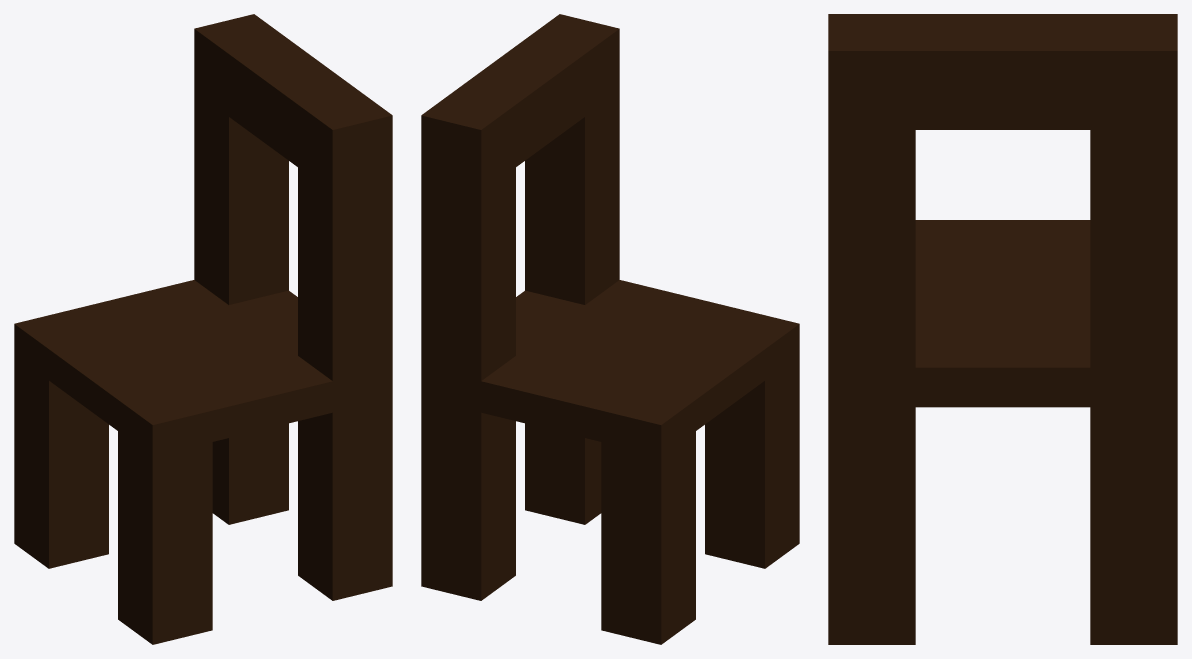
Rendered from chair.glb.
3 views of the same model, side by side, from view 1: azimuth 30°, elevation 25°; view 2: azimuth 150°, elevation 25°; view 3: azimuth 270°, elevation 25° (orthographic). The views are drawn at different scales.
Parts seen in each view (by area): view 1: Chair; view 2: Chair; view 3: Chair.
Boxes of the visible parts, bbox=[...] form: Chair: bbox=[14, 14, 392, 644]; Chair: bbox=[421, 14, 799, 644]; Chair: bbox=[828, 14, 1177, 644].
Size of the model in its own units: 2 by 3.75 by 2.
